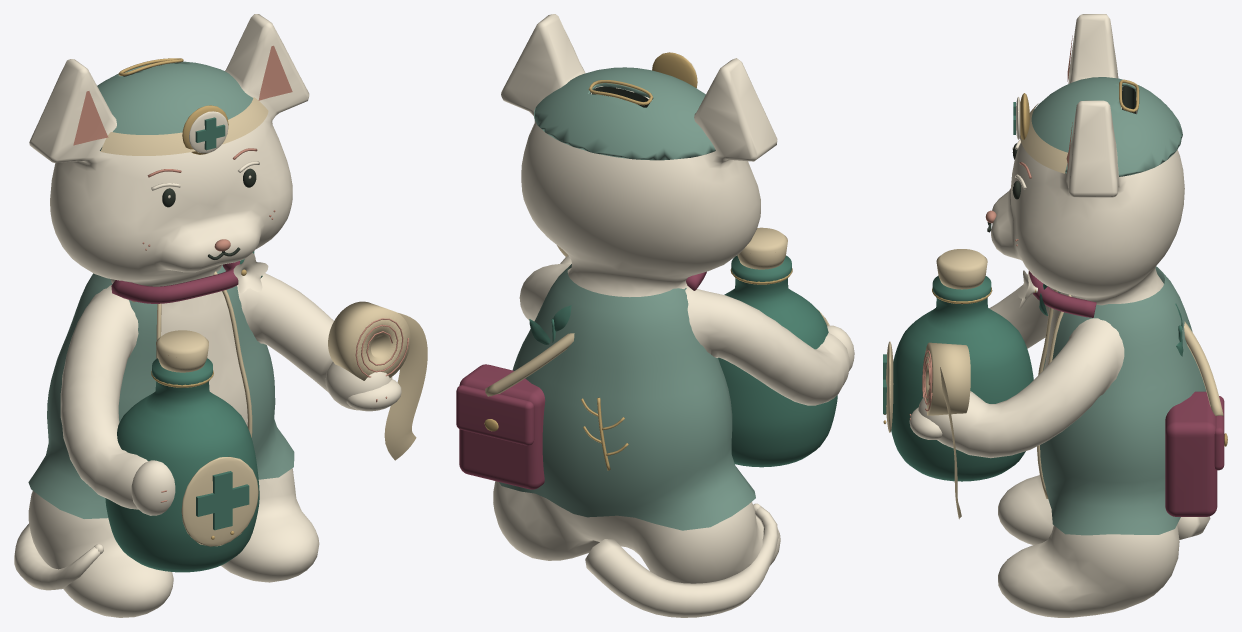
File: health.v1.glb
3 renders of one model, left to right at view 1: azimuth 30°, elevation 25°; view 2: azimuth 150°, elevation 25°; view 3: azimuth 270°, elevation 25°, orthographic. The views are drawn at different scales.
Visible parts, largest first — view 1: Health | Porcelain, Health | Sage, Health | Celadon, Health | Parchment, Health | Rose, Health | Garnet, Health | Gold, Health | Ink; view 2: Health | Porcelain, Health | Sage, Health | Celadon, Health | Garnet, Health | Parchment, Health | Gold; view 3: Health | Porcelain, Health | Sage, Health | Celadon, Health | Parchment, Health | Garnet, Health | Gold, Health | Rose, Health | Ink.
Boxes of the visible parts, x1,y1,x2,y2 form: Health | Porcelain: (14,14,401,617); Health | Sage: (28,61,294,518); Health | Celadon: (105,117,262,572); Health | Parchment: (100,97,427,546); Health | Rose: (73,45,408,502); Health | Garnet: (111,261,240,303); Health | Gold: (118,58,246,539); Health | Ink: (123,65,256,259); Health | Porcelain: (493,14,854,617); Health | Sage: (499,67,755,530); Health | Celadon: (529,255,837,467); Health | Garnet: (456,271,706,489); Health | Parchment: (485,227,829,396); Health | Gold: (484,52,792,470); Health | Porcelain: (909,14,1210,617); Health | Sage: (1031,77,1206,535); Health | Celadon: (883,102,1183,481); Health | Parchment: (886,103,1223,519); Health | Garnet: (1029,271,1224,516); Health | Gold: (883,79,1227,446); Health | Rose: (909,35,1072,420); Health | Ink: (987,86,1135,232).
Bounding box in the file's own units: 0.6441 × 1 × 0.6049.
